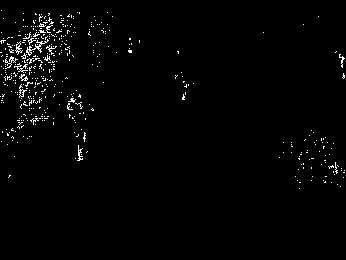person: (64, 89, 99, 161)
